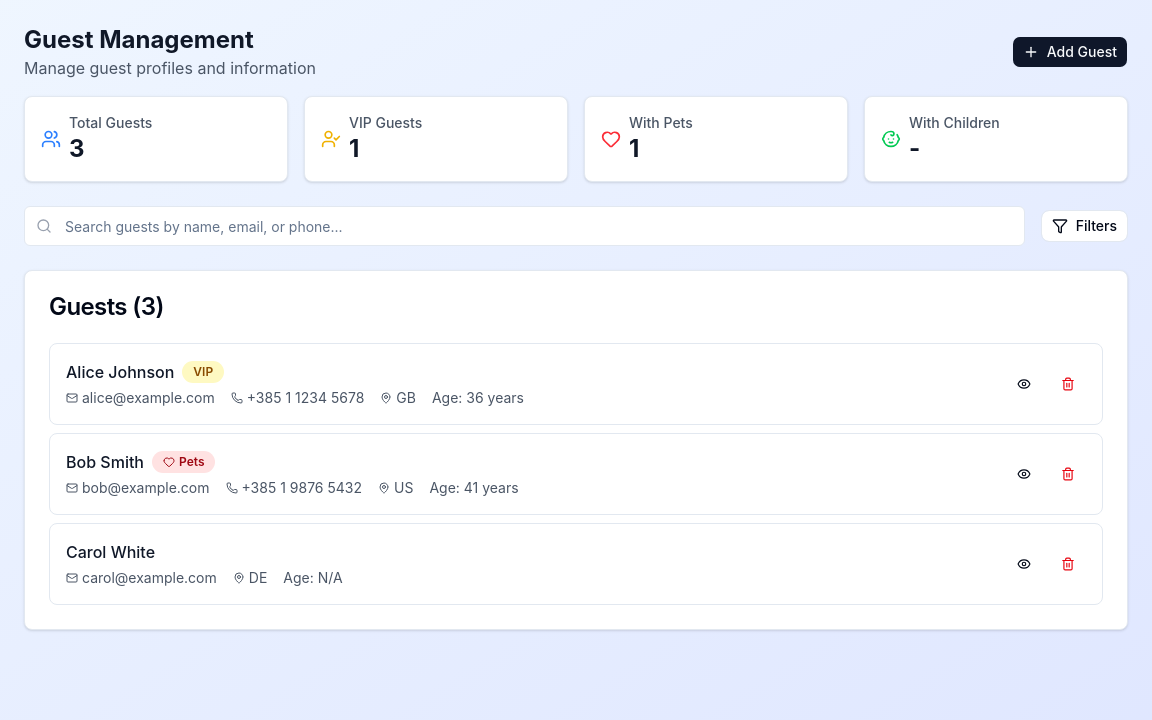
Test: GuestsPage › search filter › filters guests by name
Type "Alice" into the field with placeholder "Search guests by name, email, or phone...".
click(524, 226); type("Alice")  # box [24,206,1025,246]
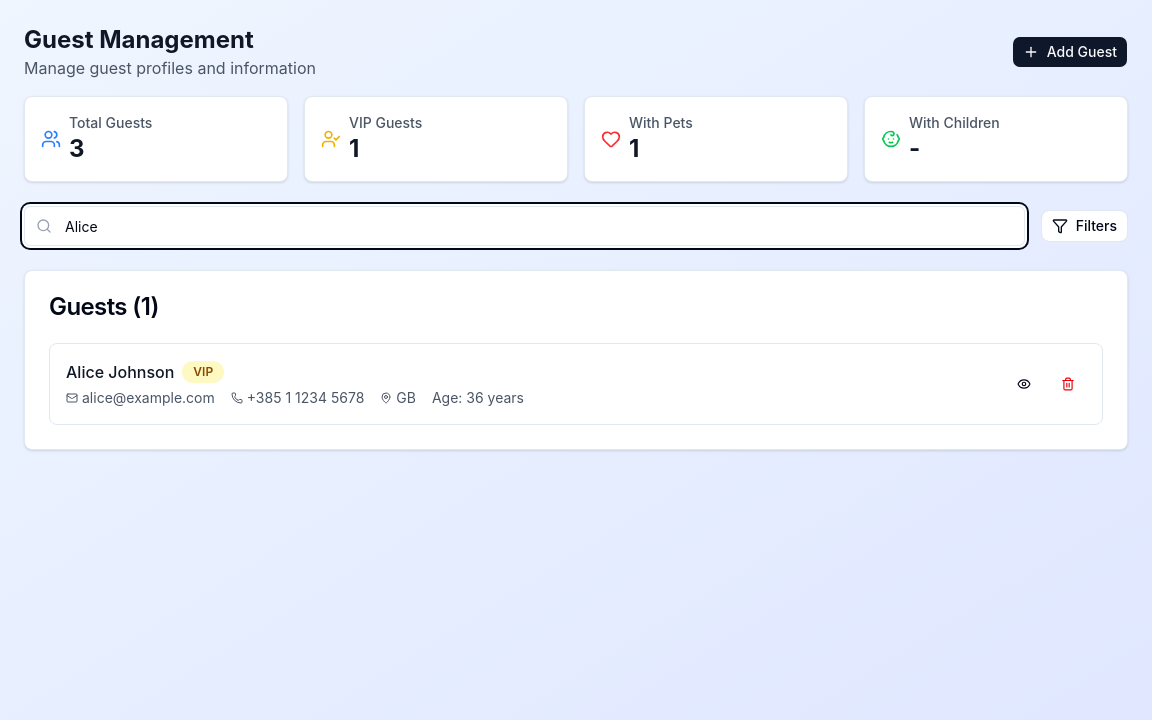
expect the heading "Alice Johnson" is shown: met, box [66,360,174,384]
expect the heading "Bob Smith" is gone: met
expect the heading "Carol White" is gone: met
